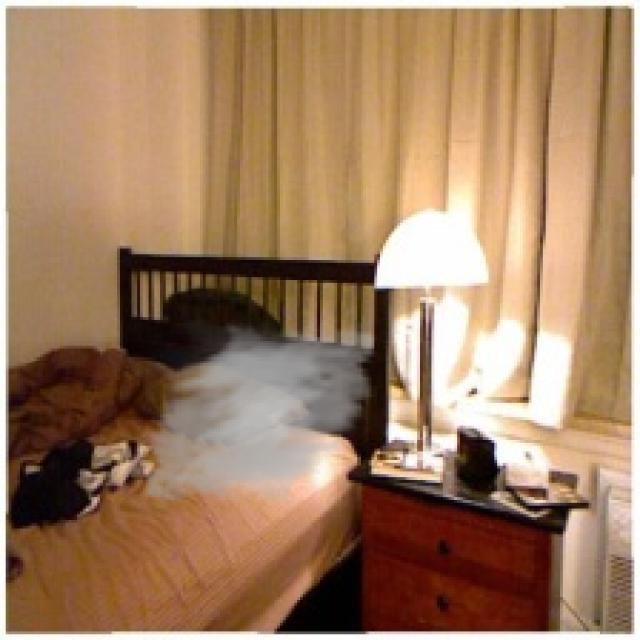Smoke: (134, 308, 386, 518)
